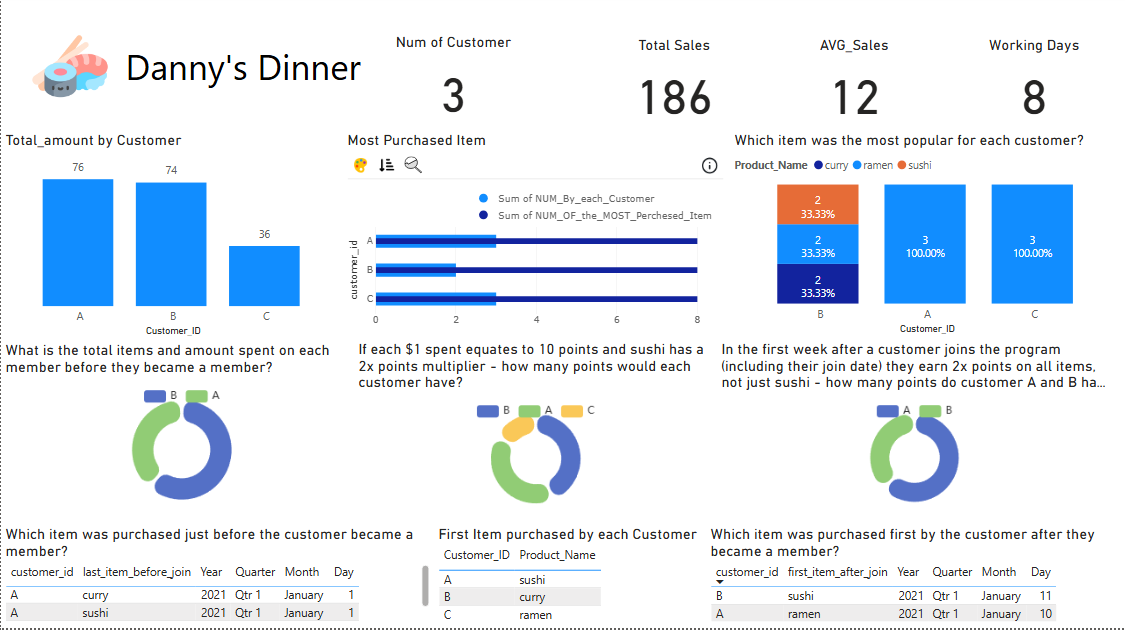

This screenshot's page, from the dashboard's own definition file:
{"tool":"powerbi","page":{"name":"Page 1","canvas":[1280,720],"ordinal":0},"visuals":[{"type":"clusteredColumnChart","title":"Total_amount by Customer","fields":{"Category":["--1. What is the total amount each customer spent at the restaurant?.Customer_ID"],"Y":["--1. What is the total amount each customer spent at the restaurant?.Total_amount"]},"box":[0,153.7,392.2,238.5],"z":0},{"type":"tableEx","title":"First Item purchased by each Customer","fields":{"Values":["--3. What was the first item from the menu purchased by each customer?.Customer_ID","--3. What was the first item from the menu purchased by each customer?.Product_Name"]},"box":[493.3,602.7,309.9,117.3],"z":2},{"type":"horizontalbullechart174B6169C26AD2E17C7ECE5DC5DCDFBB","title":"Most Purchased Item","fields":{"col_0":["--4. What is the most purchased item on the menu and how many times was it been purchased by all customers?.customer_id"],"col_2":["Sum(--4. What is the most purchased item on the menu and how many times was it been purchased by all customers?.NUM_By_e"],"col_1":["Sum(--4. What is the most purchased item on the menu and how many times was it been purchased by all customers?.MUM_OF_t"],"col_3":["Min(--4. What is the most purchased item on the menu and how many times was it been purchased by all customers?.the_MOST"]},"box":[389.3,153.7,438.2,235.6],"z":3},{"type":"hundredPercentStackedColumnChart","title":"Which item was the most popular for each customer?","fields":{"Category":["--5. Which item was the most popular for each customer?.Customer_ID"],"Y":["--5. Which item was the most popular for each customer?.NUMBER"],"Series":["--5. Which item was the most popular for each customer?.Product_Name"]},"box":[830.3,153.7,449.7,235.6],"z":4},{"type":"tableEx","title":"Which item was purchased first by the customer after they became a member?","fields":{"Values":["--6. Which item was purchased first by the customer after they became a member?.customer_id","--6. Which item was purchased first by the customer after they became a member?.first_item_after_join","--6. Which item was purchased first by the customer after they became a member?.order_date.Variation.Date Hierarchy.Year","--6. Which item was purchased first by the customer after they became a member?.order_date.Variation.Date Hierarchy.Quar","--6. Which item was purchased first by the customer after they became a member?.order_date.Variation.Date Hierarchy.Mont","--6. Which item was purchased first by the customer after they became a member?.order_date.Variation.Date Hierarchy.Day"]},"box":[803.2,602.7,477.3,117.3],"z":5},{"type":"tableEx","title":"Which item was purchased just before the customer became a member?","fields":{"Values":["--7. Which item was purchased just before the customer became a member?.customer_id","--7. Which item was purchased just before the customer became a member?.last_item_before_join","--7. Which item was purchased just before the customer became a member?.order_date.Variation.Date Hierarchy.Year","--7. Which item was purchased just before the customer became a member?.order_date.Variation.Date Hierarchy.Quarter","--7. Which item was purchased just before the customer became a member?.order_date.Variation.Date Hierarchy.Month","--7. Which item was purchased just before the customer became a member?.order_date.Variation.Date Hierarchy.Day"]},"box":[0,602.7,493.3,117.3],"z":6},{"type":"pie050B4EA6F32774BA1AFDC6E3E005A3168","title":"What is the total items and amount spent on each member before they became a member?","fields":{"UnitId":["--8. What is the total items and amount spent on each member before they became a member?.customer_id"],"Volume":["--8. What is the total items and amount spent on each member before they became a member?.Total_amount"]},"box":[0,392.8,411.9,210.1],"z":7},{"type":"pie050B4EA6F32774BA1AFDC6E3E005A3168","title":"If each $1 spent equates to 10 points and sushi has a 2x points multiplier - how many points would each customer have?","fields":{"UnitId":["--9. If each $1 spent equates to 10 points and sushi has a 2x points multiplier - how many points would each customer ha"],"Volume":["Sum(--9. If each $1 spent equates to 10 points and sushi has a 2x points multiplier - how many points would each custome"]},"box":[402.2,392.2,413.7,212.6],"z":8},{"type":"pie050B4EA6F32774BA1AFDC6E3E005A3168","title":"In the first week after a customer joins the program (including their join date) they earn 2x points on all items, not just sushi - how many points do customer A and B have at the end of January?","fields":{"UnitId":["-- 10. In the first week after a customer joins the program (including their join date) they earn 2x points on all items"],"Volume":["Sum(-- 10. In the first week after a customer joins the program (including their join date) they earn 2x points on all i"]},"box":[816,392.2,449.7,211.2],"z":9},{"type":"card","title":"Num of Customer","fields":{"Values":["Main.Customers_Number"]},"box":[412.4,42.2,206.2,108.2],"z":10},{"type":"card","title":"Total Sales","fields":{"Values":["Main.Total_Sales"]},"box":[663.7,46,205.4,107.7],"z":11},{"type":"card","title":"AVG_Sales","fields":{"Values":["Main.Averge_Sales"]},"box":[869.1,46,205.4,107.7],"z":12},{"type":"card","title":"Working Days","fields":{"Values":["Main.Days_Number"]},"box":[1074.6,46,205.4,107.7],"z":13},{"type":"shape","box":[0,4.6,431.8,149.2],"z":14},{"type":"image","box":[21.6,31.9,113.9,95.7],"z":15}]}

Visuals, with their boxes in screenshot pixels (x1, y1, x2, y2), scaled from the page's 1280x720 canvas onto the 1125x631 screenshot:
"Total_amount by Customer" clusteredColumnChart: Rect(0, 135, 345, 344)
"First Item purchased by each Customer" tableEx: Rect(434, 528, 706, 630)
"Most Purchased Item" horizontalbullechart174B6169C26AD2E17C7ECE5DC5DCDFBB: Rect(342, 135, 727, 341)
"Which item was the most popular for each customer?" hundredPercentStackedColumnChart: Rect(730, 135, 1124, 341)
"Which item was purchased first by the customer after they became a member?" tableEx: Rect(706, 528, 1124, 630)
"Which item was purchased just before the customer became a member?" tableEx: Rect(0, 528, 434, 630)
"What is the total items and amount spent on each member before they became a member?" pie050B4EA6F32774BA1AFDC6E3E005A3168: Rect(0, 344, 362, 528)
"If each $1 spent equates to 10 points and sushi has a 2x points multiplier - how many points would each customer have?" pie050B4EA6F32774BA1AFDC6E3E005A3168: Rect(353, 344, 717, 530)
"In the first week after a customer joins the program (including their join date) they earn 2x points on all items, not just sushi - how many points do customer A and B have at the end of January?" pie050B4EA6F32774BA1AFDC6E3E005A3168: Rect(717, 344, 1112, 529)
"Num of Customer" card: Rect(362, 37, 544, 132)
"Total Sales" card: Rect(583, 40, 764, 135)
"AVG_Sales" card: Rect(764, 40, 944, 135)
"Working Days" card: Rect(944, 40, 1124, 135)
shape: Rect(0, 4, 380, 135)
image: Rect(19, 28, 119, 112)
